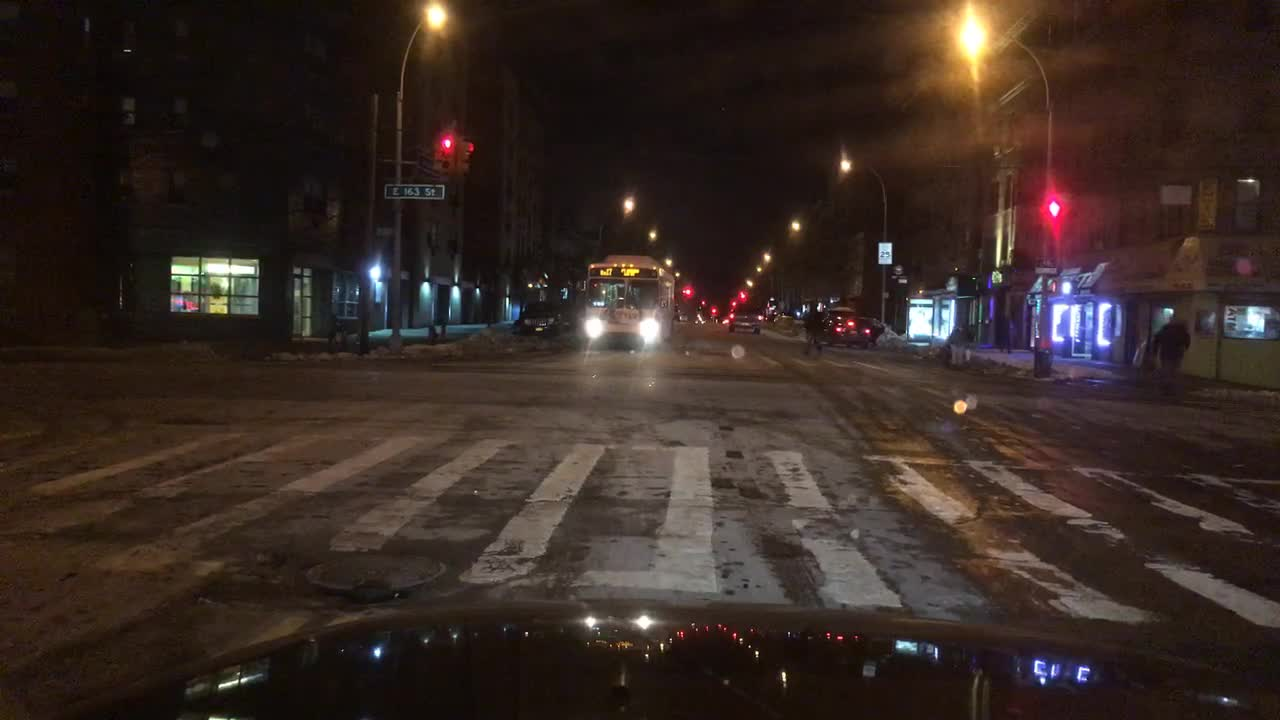bus: (581, 250, 676, 345)
car: (818, 307, 876, 347), (516, 299, 562, 334), (725, 304, 764, 334)
person: (1151, 312, 1191, 398), (798, 297, 827, 356), (995, 307, 1016, 354)
traffic light: (1043, 191, 1063, 226), (459, 133, 476, 172), (438, 131, 452, 167), (680, 283, 692, 302), (1058, 277, 1071, 293), (705, 304, 719, 317), (1048, 275, 1058, 293), (737, 287, 747, 302)
traffic sign: (381, 179, 444, 199), (1029, 250, 1056, 275), (876, 239, 894, 263), (891, 261, 909, 283)
